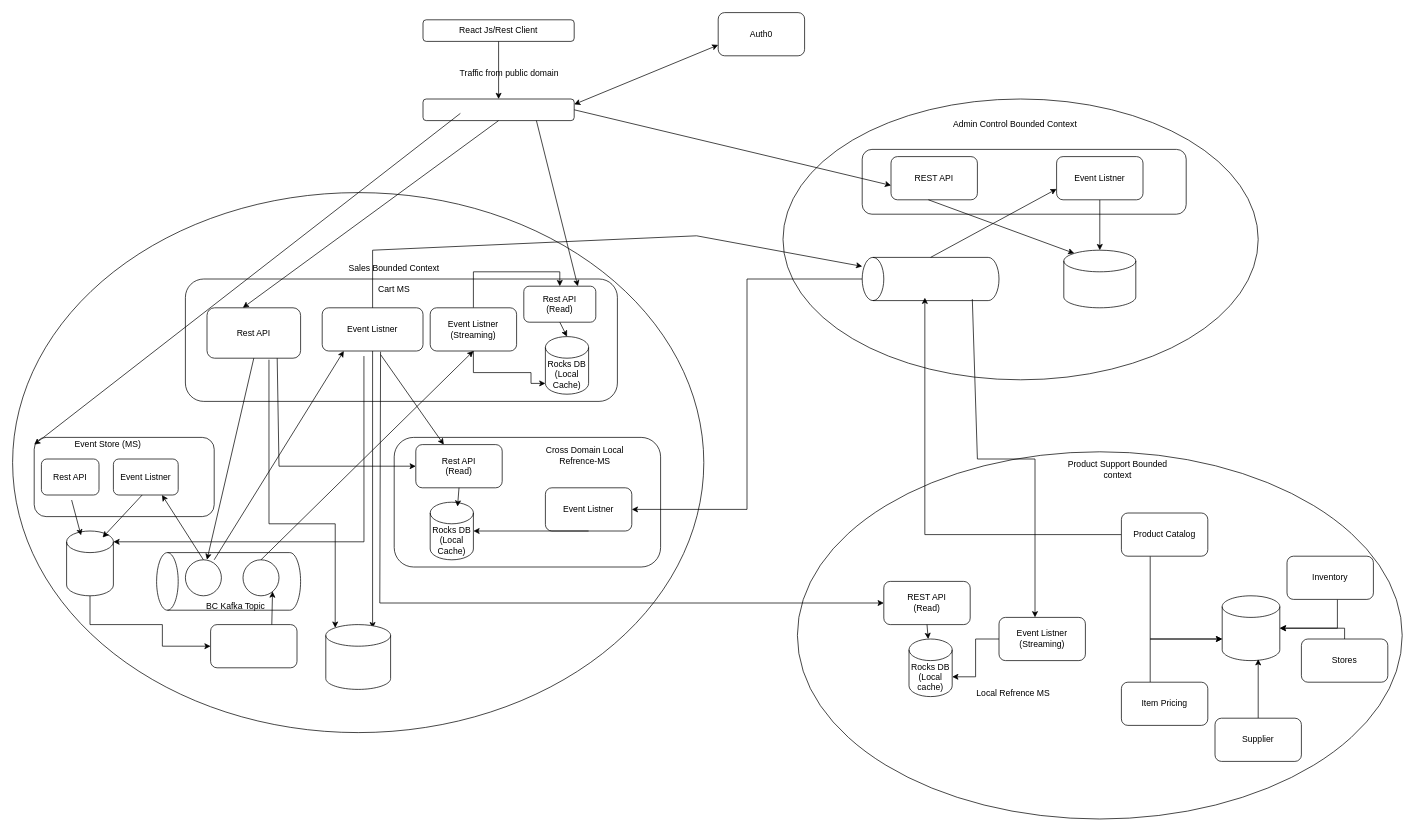
Some shapes in this 1415 by 832 pixel diagram are drawn without their labels. The box of each missing label's shape, as (x1, y1, x2, y2) in pixels:
Cart (T): (185, 559, 221, 596)
Cassandra (Aggregated data): (325, 624, 391, 689)
CDC (T): (242, 559, 279, 596)
Cross BCs-kafka Topic: (861, 257, 999, 301)
Graph DB (Master Db & Event Store): (1221, 595, 1280, 661)
Graph DB (Master DB and Event Store): (66, 530, 113, 596)
Graph DB (Matser DB & Event Store): (1063, 249, 1136, 308)
Isito Ingress Gateway: (422, 98, 574, 121)
Kafka -Connect (CDC) (Container): (210, 624, 297, 668)
